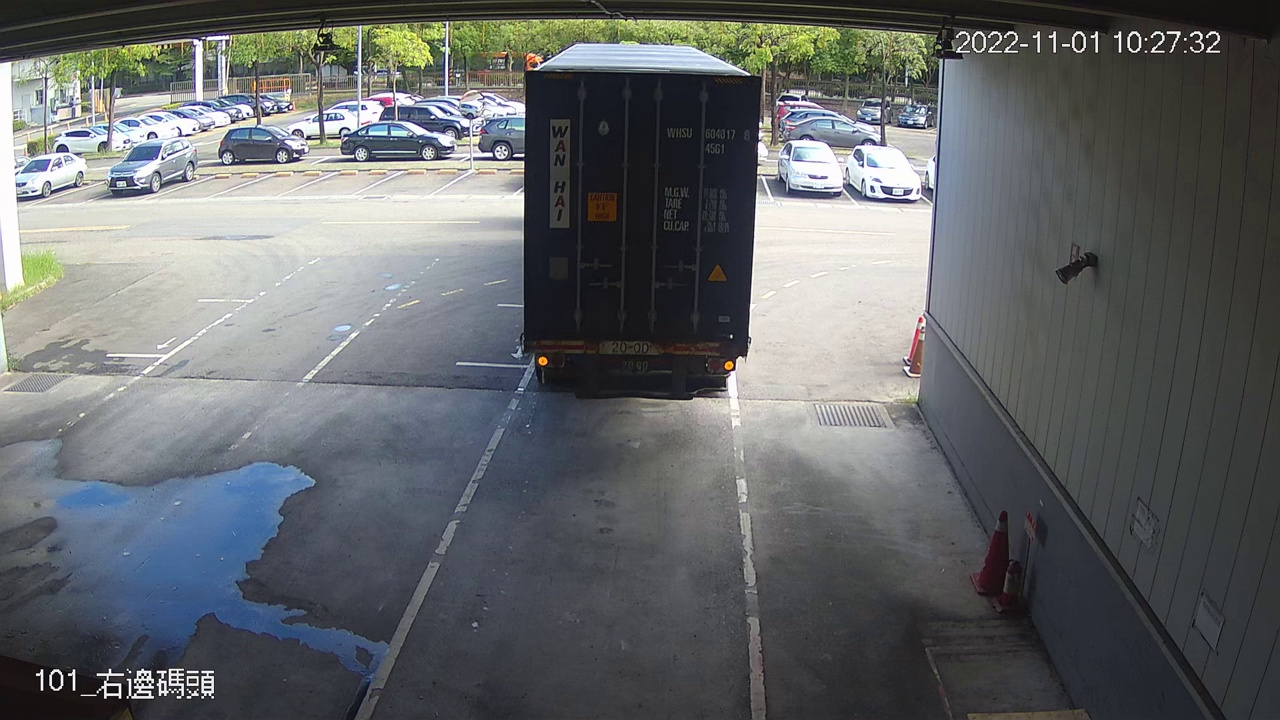container: (662, 120, 754, 161)
